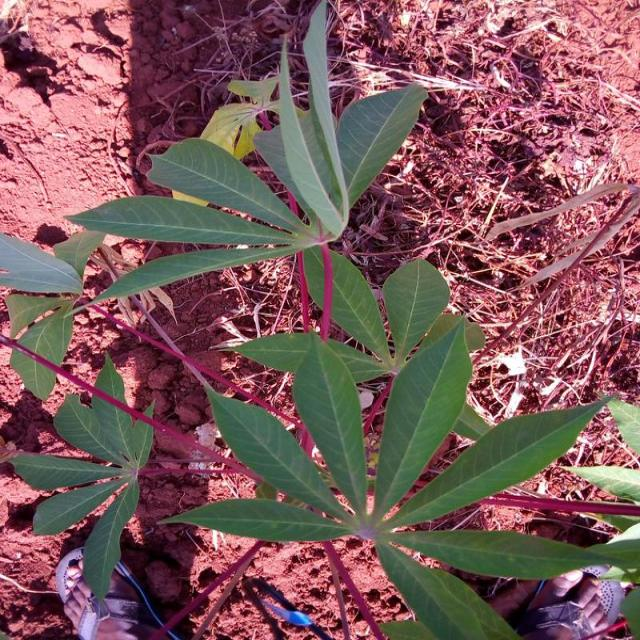cassava leaf: (3, 1, 637, 637), (371, 312, 473, 522)
